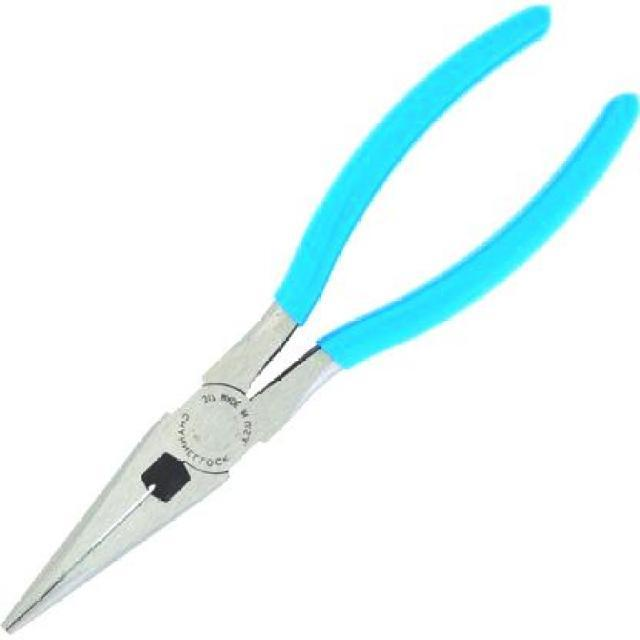pliers: (11, 13, 636, 635)
